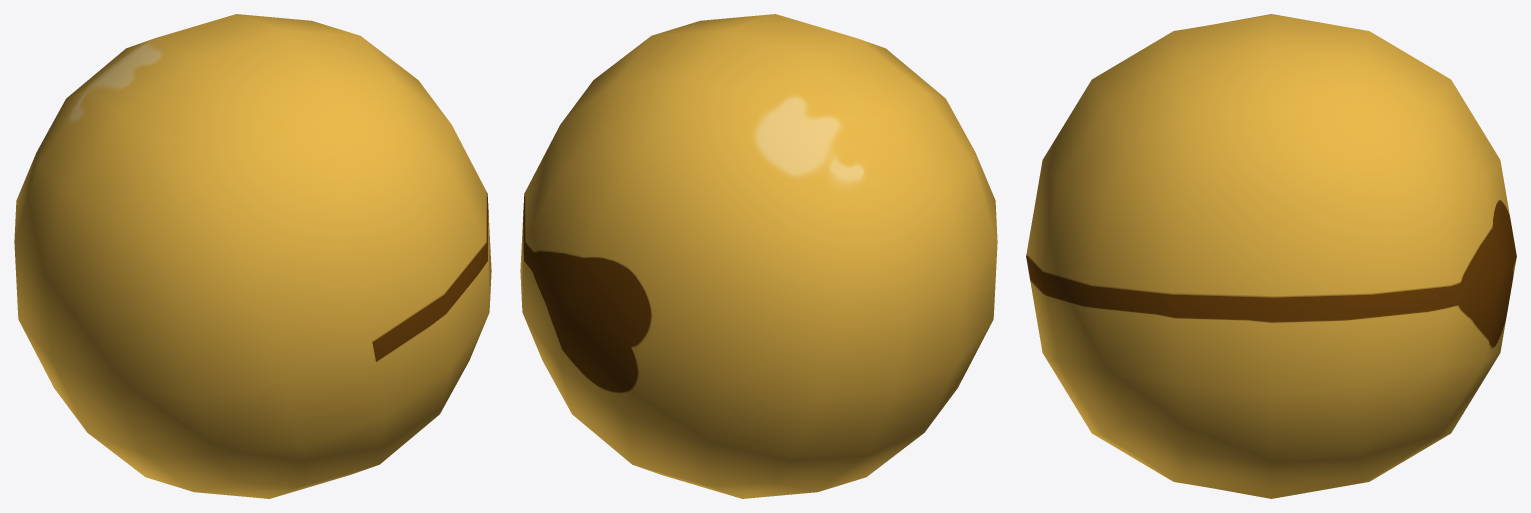
The model's file is Bell.fbx.
3 views of the same model, side by side, from view 1: azimuth 30°, elevation 25°; view 2: azimuth 150°, elevation 25°; view 3: azimuth 270°, elevation 25° (orthographic). The views are drawn at different scales.
Visible parts, largest first — view 1: pCube1; view 2: pCube1; view 3: pCube1.
Boxes of the visible parts, x1,y1,x2,y2 form: pCube1: (14, 14, 491, 498); pCube1: (520, 14, 997, 498); pCube1: (1026, 14, 1516, 498).
Bounding box in the file's own units: 1.15 × 1.15 × 1.14.
